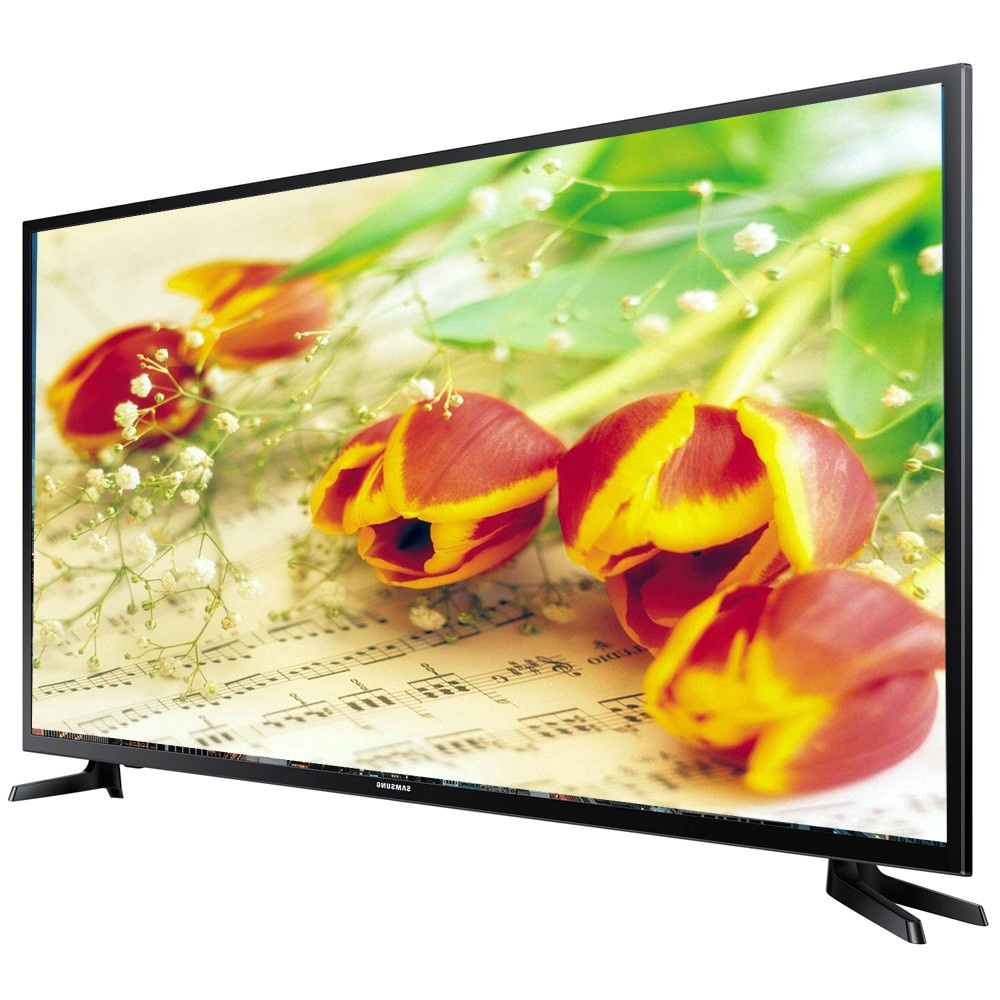SAMSUNG: (284, 738, 520, 874)
